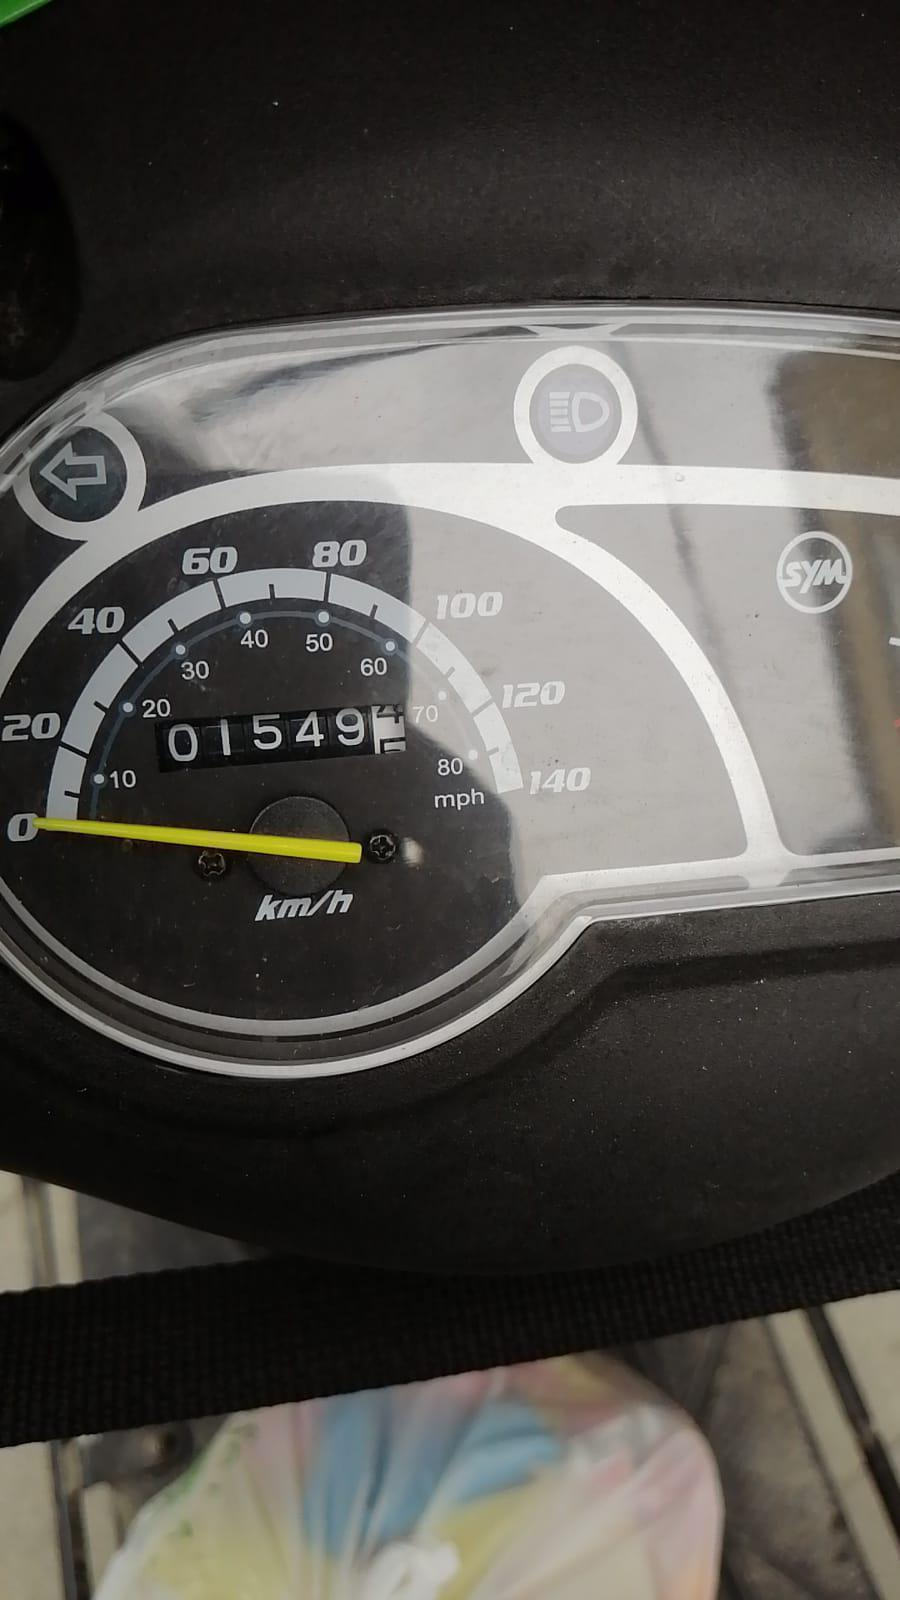0: (167, 721, 201, 764), (157, 696, 170, 719)
1: (214, 710, 237, 762)
4: (295, 709, 329, 749), (376, 693, 407, 727)
5: (251, 710, 288, 752)
9: (334, 705, 367, 748)
odometer: (154, 699, 414, 771)
